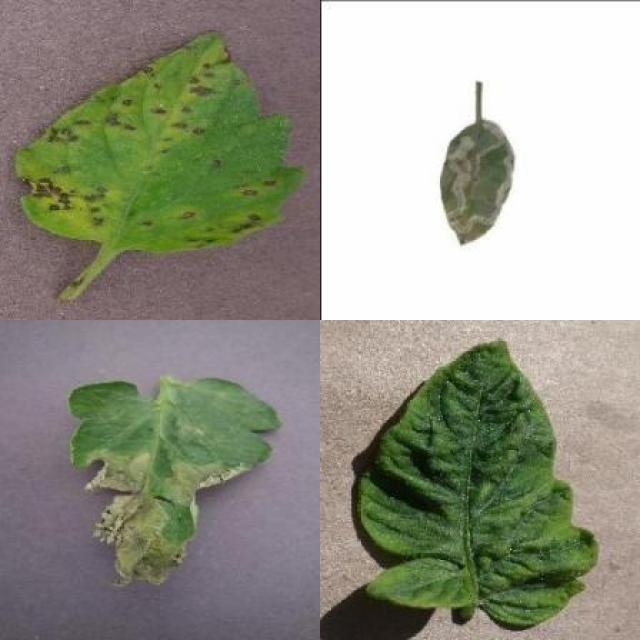Late Blight: (67, 372, 284, 589)
Leaf Miner: (438, 119, 512, 245)
Septoria: (13, 28, 306, 255)
Yellow Leaf Curl Virus: (358, 336, 599, 626)
